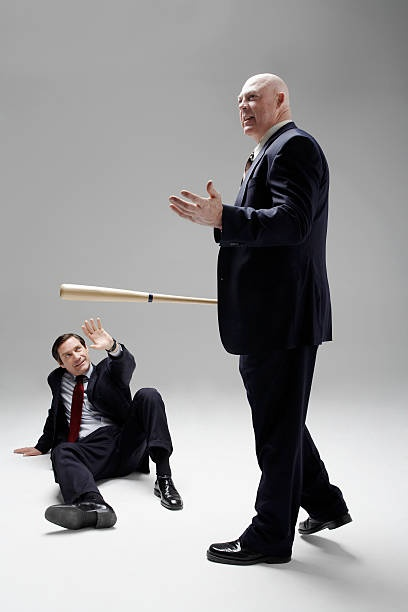bita: (57, 278, 226, 313)
